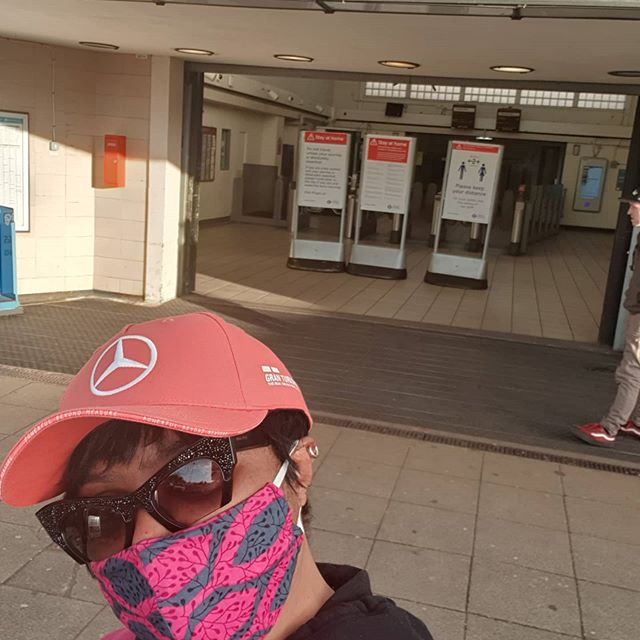homemade: (68, 498, 337, 640)
